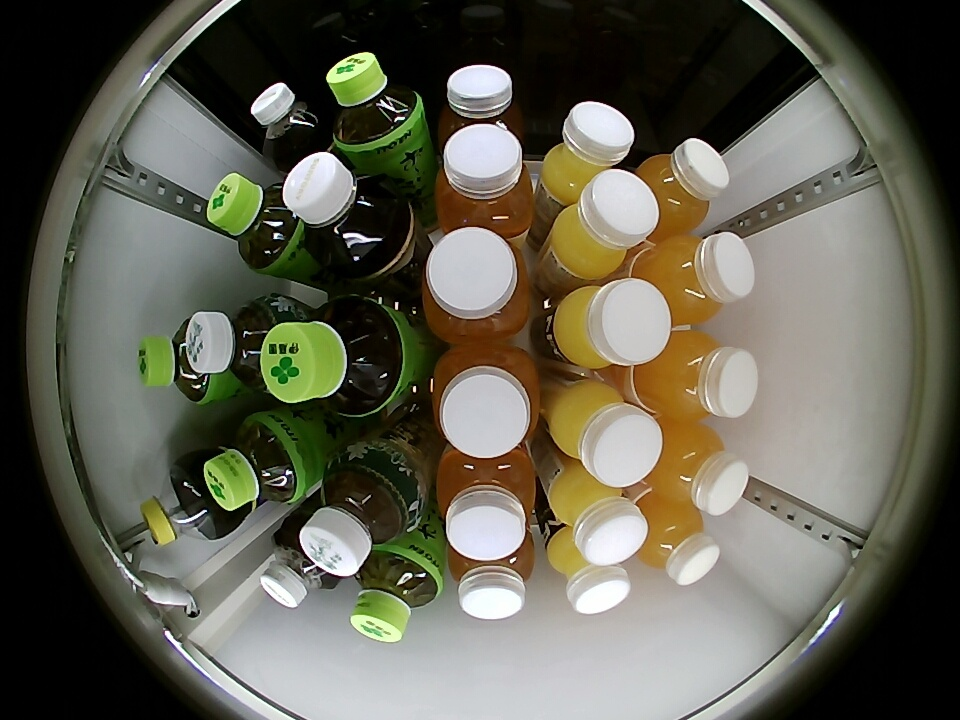baishikele: (141, 463, 223, 546)
chapai: (421, 227, 532, 343), (430, 344, 540, 457), (435, 445, 538, 561), (434, 123, 535, 240), (449, 534, 535, 620), (436, 65, 522, 149)
moliqingcha: (300, 446, 425, 576), (186, 293, 299, 398)
nfc: (550, 380, 664, 488), (548, 170, 658, 280), (555, 279, 673, 370), (548, 462, 648, 564), (540, 101, 636, 202), (546, 529, 631, 614)
weic: (630, 330, 758, 421), (630, 232, 755, 325), (639, 422, 749, 515), (631, 138, 730, 235), (632, 498, 720, 585)
wulongcha: (282, 152, 398, 269), (260, 522, 342, 608), (252, 82, 327, 163)
yitengyuan: (261, 295, 409, 421), (326, 51, 427, 159), (203, 412, 311, 512), (207, 172, 304, 273), (350, 544, 443, 644), (138, 313, 218, 407)
